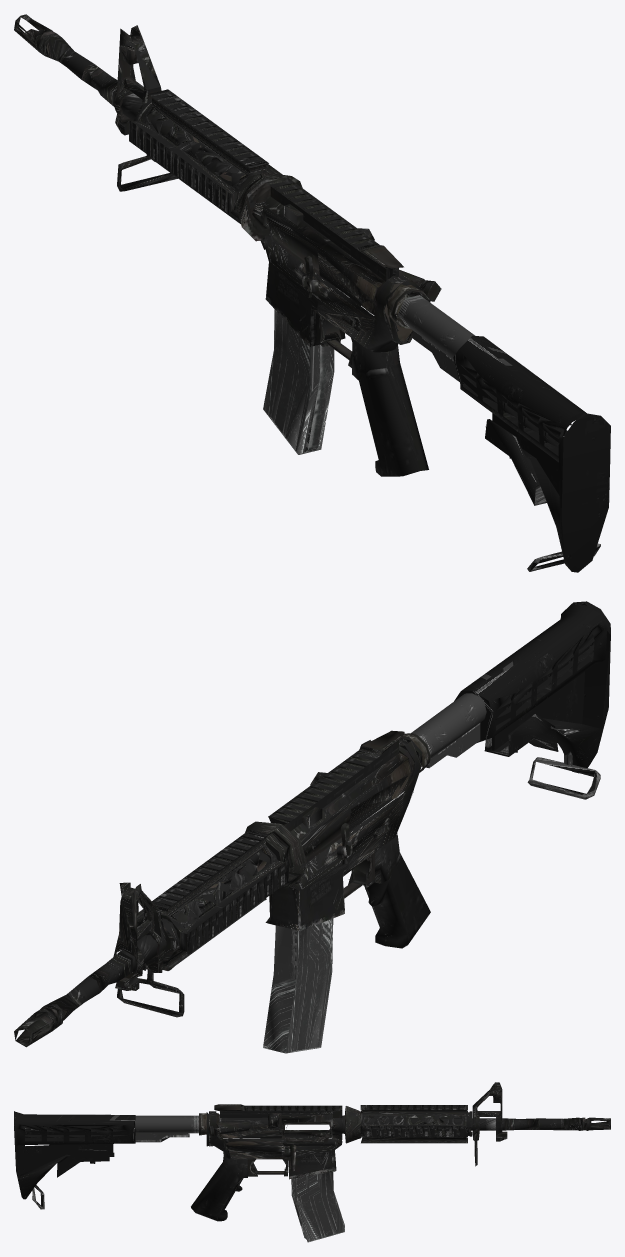
The model's file is carbine.glb.
3 views of the same model, one above another, from view 1: azimuth 30°, elevation 25°; view 2: azimuth 150°, elevation 25°; view 3: azimuth 270°, elevation 25° (orthographic). The views are drawn at different scales.
Visible parts, largest first — view 1: Carbine; view 2: Carbine; view 3: Carbine.
Boxes of the visible parts, left/top/right/bottom form: Carbine: left=14, top=14, right=610, bottom=572; Carbine: left=14, top=601, right=610, bottom=1053; Carbine: left=14, top=1082, right=610, bottom=1242.
Size of the model in its own units: 0.0642 by 0.2411 by 0.84.
Materials: 1 (1 with a texture image).
